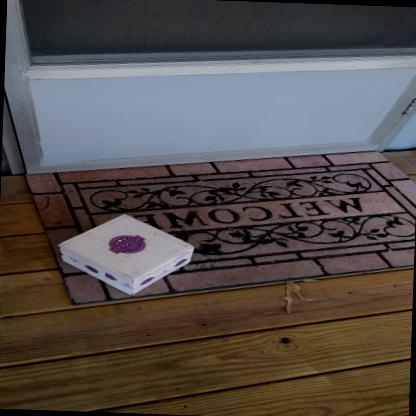box: (54, 210, 198, 297)
